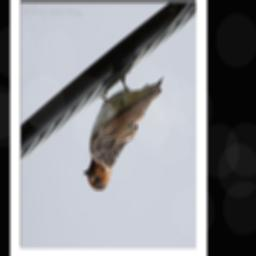Swallow: (82, 69, 166, 194)
